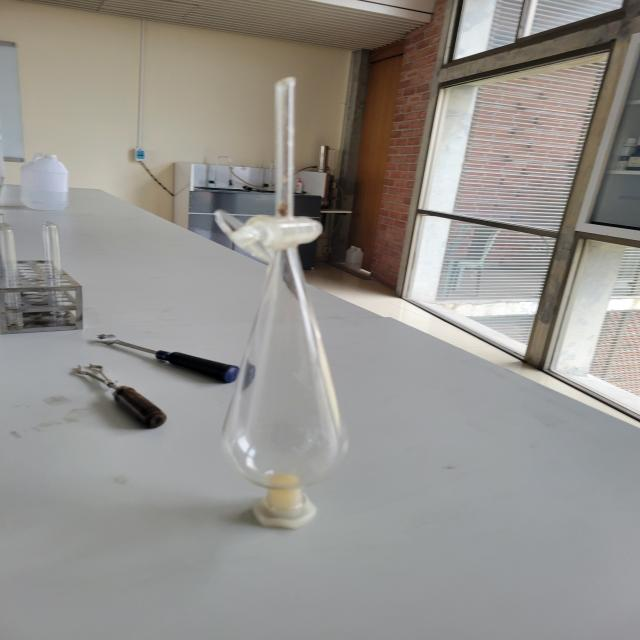Separating_Funnel: (176, 43, 397, 555)
